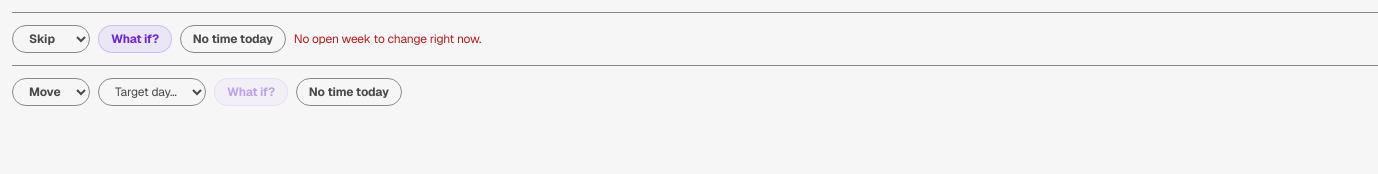
Test: DayActions error rendering (interaction) › shows friendly copy, not the raw code, when apply fails
Select "Wed" in the dropdown named "Target day" at (152, 92), box [98,78,206,106]
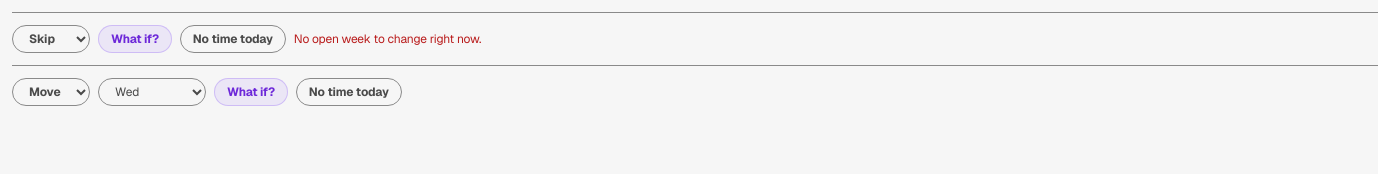
Click the 2nd button "What if?" at (251, 92), box [214,78,288,106]
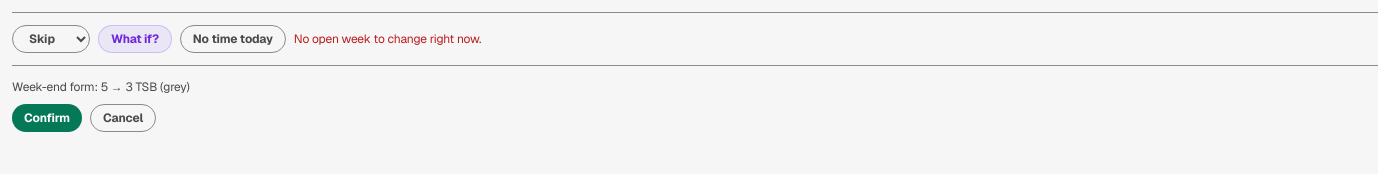
Click the button "Confirm" at (47, 118), box [12,104,82,132]
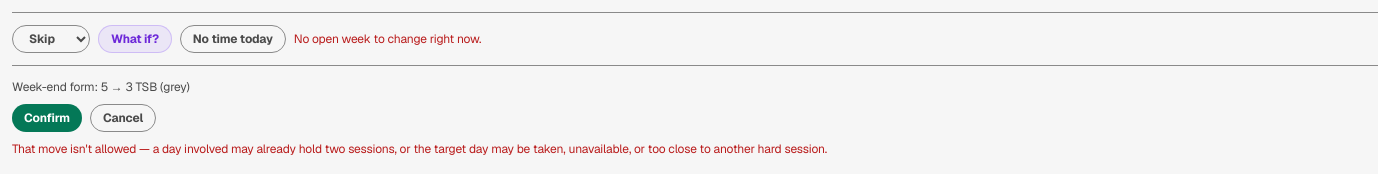
Result: the text "That move isn't allowed" is shown at [12,141,827,157]
